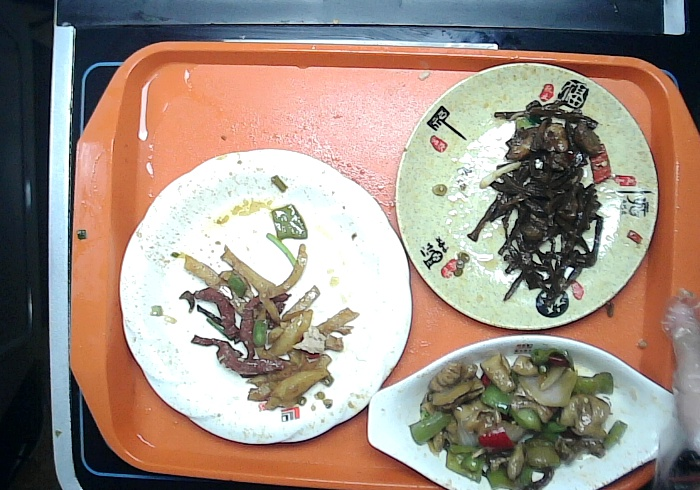NLDX-Bai_Zhe_Yuan_Pan: (115, 145, 414, 447)
NLDX-Fu_Zi_Yuan_Pan: (392, 60, 661, 332)
NLDX-Yu_Pan: (365, 332, 689, 490)
